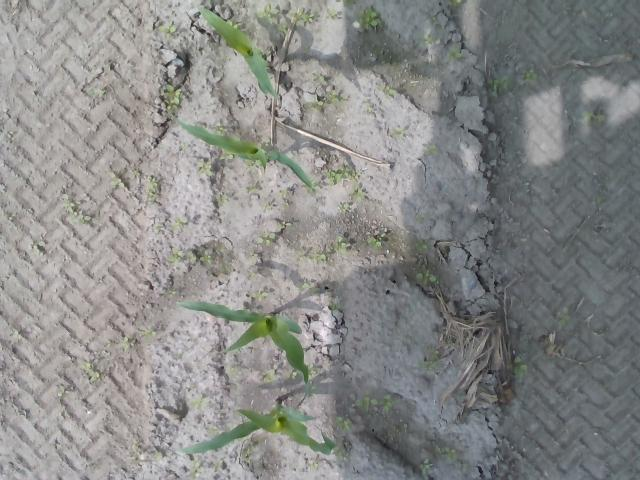Maize: (177, 300, 309, 386), (174, 117, 316, 191), (175, 398, 338, 456), (198, 7, 276, 98)
Weeds: (62, 195, 88, 223), (359, 6, 384, 33), (358, 394, 392, 410), (288, 6, 318, 24), (80, 360, 102, 384), (165, 84, 185, 110), (487, 74, 513, 93), (257, 3, 280, 24), (327, 166, 356, 180), (414, 269, 438, 285), (558, 306, 572, 330), (434, 447, 459, 460), (514, 355, 528, 378), (256, 230, 276, 246), (166, 246, 186, 262), (333, 416, 352, 432), (446, 46, 464, 62), (582, 110, 602, 124), (350, 185, 366, 202), (522, 66, 538, 82), (158, 23, 178, 34), (366, 236, 384, 248), (327, 92, 342, 106), (252, 290, 269, 302), (422, 360, 436, 374), (414, 238, 428, 252), (332, 236, 346, 250), (200, 162, 212, 178), (422, 144, 437, 156), (147, 174, 157, 192), (192, 461, 203, 477), (110, 177, 126, 188), (120, 336, 130, 353), (419, 460, 431, 474), (193, 394, 205, 408), (208, 424, 220, 436), (244, 446, 252, 464), (264, 370, 276, 382), (214, 194, 228, 204), (314, 253, 328, 263), (424, 34, 435, 46), (215, 126, 228, 136), (199, 255, 213, 264), (222, 150, 233, 161), (289, 368, 302, 377), (338, 203, 349, 213), (174, 220, 184, 230), (308, 365, 315, 379), (448, 0, 462, 7), (280, 221, 292, 229), (310, 460, 318, 471), (228, 21, 239, 29), (385, 86, 394, 95), (300, 280, 308, 290), (154, 451, 162, 460), (145, 330, 157, 336), (168, 290, 176, 298)
